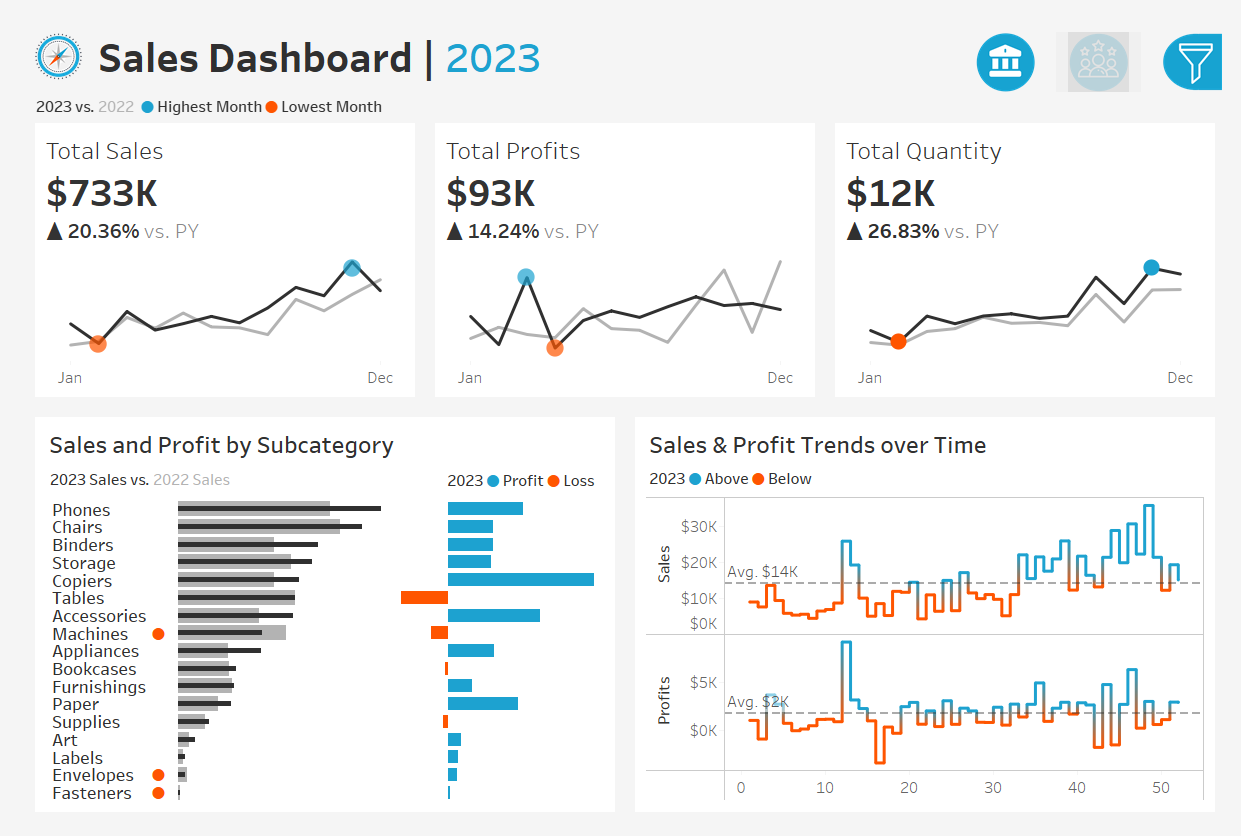

This screenshot's page, from the dashboard's own definition file:
{"tool":"tableau","page":{"name":"Sales Dashboard","canvas":[1200,800],"ordinal":1},"visuals":[{"type":"image","param":"C:/Users/sanja/OneDrive/Desktop/Projects/Tableau viz project sales/projects/proj","box":[0,0,66,68]},{"type":"text","box":[66,0,1134,68]},{"type":"dashboard-object","box":[934,6,93,68]},{"type":"dashboard-object","box":[1027,6,93,68]},{"type":"blank","box":[941,10,243,134]},{"type":"worksheet","title":"Legend KPI","mark":"Automatic","box":[0,68,1200,33]},{"type":"worksheet","title":"KPI Sales","mark":"Automatic","rows":["Calculation_3137038640385003524"],"cols":["Order Date"],"box":[0,101,400,284]},{"type":"worksheet","title":"KPI Profits","mark":"Automatic","rows":["Calculation_3137038640405995539"],"cols":["Order Date"],"box":[400,101,400,284]},{"type":"worksheet","title":"KPI Quantity","mark":"Automatic","rows":["Min/Max Sales (copy)_3137038640527532062"],"cols":["Order Date"],"box":[800,101,400,284]},{"type":"text","box":[941,144,243,40]},{"type":"parameter","param":"[Parameters].[Parameter 1]","box":[941,184,243,60]},{"type":"blank","box":[941,244,243,52]},{"type":"text","box":[941,296,243,33]},{"type":"filter","title":"KPI Sales","param":"[federated.1eohjdj19t7bp8151wfv40vz1qie].[none:Category:nk]","box":[941,329,243,61]},{"type":"filter","title":"KPI Sales","param":"[federated.1eohjdj19t7bp8151wfv40vz1qie].[none:Sub-Category:nk]","box":[941,390,243,61]},{"type":"text","box":[17,402,566,40]},{"type":"text","box":[617,402,566,40]},{"type":"worksheet","title":"Legend Subcategory","mark":"Automatic","box":[17,442,398,32]},{"type":"text","box":[415,442,168,32]},{"type":"text","box":[617,442,566,29]},{"type":"blank","box":[941,451,243,60]},{"type":"worksheet","title":"Weekly Trends","mark":"Automatic","rows":["Calculation_3137038640375832576","Calculation_3137038640399581197"],"cols":["Order Date"],"box":[617,471,566,312]},{"type":"worksheet","title":"Subcategory Comparision","mark":"Bar","rows":["Sub-Category","Calculation_3137038640563544097"],"cols":["CY Sales (copy)_3137038640376328193","Calculation_3137038640375832576","Calculation_3137038640399581197"],"box":[17,474,566,309]},{"type":"text","box":[941,511,243,33]},{"type":"filter","title":"KPI Sales","param":"[federated.1eohjdj19t7bp8151wfv40vz1qie].[none:Region:nk]","box":[941,544,243,61]},{"type":"filter","title":"KPI Sales","param":"[federated.1eohjdj19t7bp8151wfv40vz1qie].[none:State:nk]","box":[941,605,243,61]},{"type":"filter","title":"KPI Sales","param":"[federated.1eohjdj19t7bp8151wfv40vz1qie].[none:City:nk]","box":[941,666,243,61]}]}

Visuals, with their boxes in screenshot pixels (x1, y1, x2, y2), scaled from the page's 1200x800 canvas onto the 1241x836 screenshot:
image: {"left": 0, "top": 0, "right": 68, "bottom": 71}
text: {"left": 68, "top": 0, "right": 1240, "bottom": 71}
dashboard-object: {"left": 966, "top": 6, "right": 1062, "bottom": 77}
dashboard-object: {"left": 1062, "top": 6, "right": 1158, "bottom": 77}
blank: {"left": 973, "top": 10, "right": 1224, "bottom": 150}
"Legend KPI" worksheet: {"left": 0, "top": 71, "right": 1240, "bottom": 106}
"KPI Sales" worksheet: {"left": 0, "top": 106, "right": 414, "bottom": 402}
"KPI Profits" worksheet: {"left": 414, "top": 106, "right": 827, "bottom": 402}
"KPI Quantity" worksheet: {"left": 827, "top": 106, "right": 1240, "bottom": 402}
text: {"left": 973, "top": 150, "right": 1224, "bottom": 192}
parameter: {"left": 973, "top": 192, "right": 1224, "bottom": 255}
blank: {"left": 973, "top": 255, "right": 1224, "bottom": 309}
text: {"left": 973, "top": 309, "right": 1224, "bottom": 344}
"KPI Sales" filter: {"left": 973, "top": 344, "right": 1224, "bottom": 408}
"KPI Sales" filter: {"left": 973, "top": 408, "right": 1224, "bottom": 471}
text: {"left": 18, "top": 420, "right": 603, "bottom": 462}
text: {"left": 638, "top": 420, "right": 1223, "bottom": 462}
"Legend Subcategory" worksheet: {"left": 18, "top": 462, "right": 429, "bottom": 495}
text: {"left": 429, "top": 462, "right": 603, "bottom": 495}
text: {"left": 638, "top": 462, "right": 1223, "bottom": 492}
blank: {"left": 973, "top": 471, "right": 1224, "bottom": 534}
"Weekly Trends" worksheet: {"left": 638, "top": 492, "right": 1223, "bottom": 818}
"Subcategory Comparision" worksheet (Bar marks): {"left": 18, "top": 495, "right": 603, "bottom": 818}
text: {"left": 973, "top": 534, "right": 1224, "bottom": 568}
"KPI Sales" filter: {"left": 973, "top": 568, "right": 1224, "bottom": 632}
"KPI Sales" filter: {"left": 973, "top": 632, "right": 1224, "bottom": 696}
"KPI Sales" filter: {"left": 973, "top": 696, "right": 1224, "bottom": 760}
